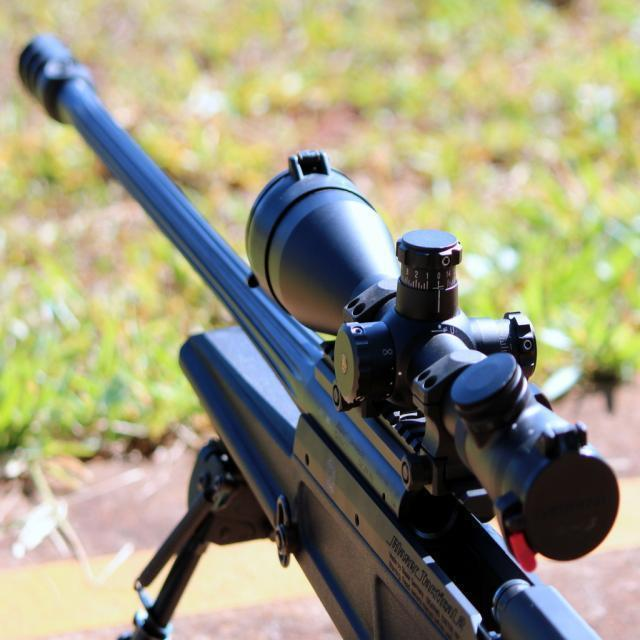Rifle: (19, 32, 621, 640)
